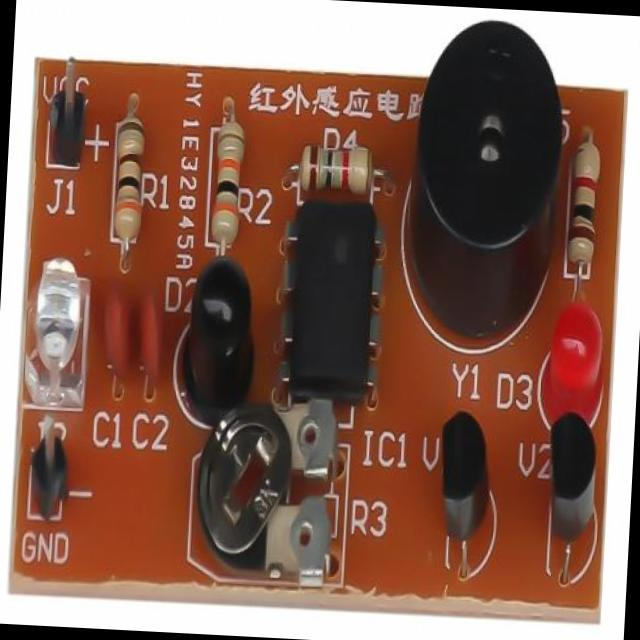IC: (271, 187, 390, 410)
LED: (180, 249, 258, 415), (18, 252, 96, 404), (539, 296, 615, 418)
capacitor: (99, 274, 138, 408), (134, 268, 167, 416)
connector: (24, 409, 74, 566), (44, 52, 86, 172)
potentiometer: (198, 388, 354, 582)
resistor: (212, 98, 256, 252), (107, 93, 151, 244), (568, 115, 605, 280), (284, 134, 380, 196)
